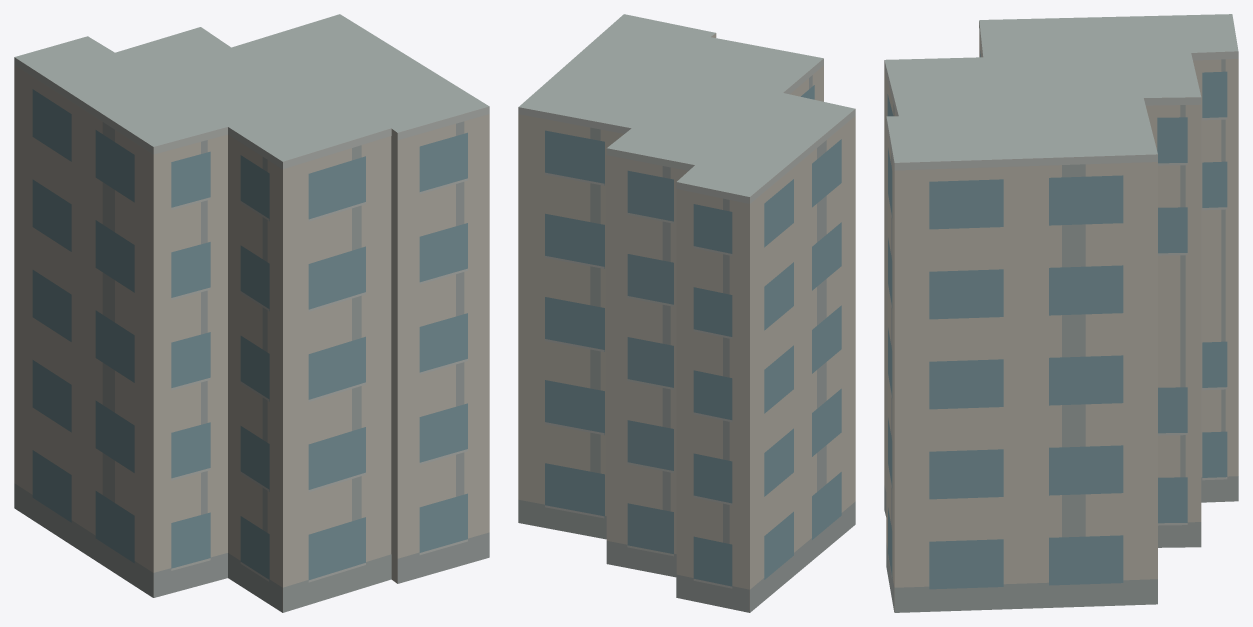
The model's file is survey-upis-32564693.glb.
The picture shows the model from 3 angles, left to right: view 1: azimuth 30°, elevation 25°; view 2: azimuth 150°, elevation 25°; view 3: azimuth 270°, elevation 25°; orthographic projection. The views are drawn at different scales.
Parts seen in each view (by area): view 1: survey-upis-32564693.tmp; view 2: survey-upis-32564693.tmp; view 3: survey-upis-32564693.tmp.
Part boxes in pixels (x1=…): survey-upis-32564693.tmp: x1=14, y1=14, x2=489, y2=612; survey-upis-32564693.tmp: x1=518, y1=14, x2=855, y2=612; survey-upis-32564693.tmp: x1=884, y1=14, x2=1238, y2=612.
Size of the model in its own units: 10.3 by 14.5 by 10.35.
